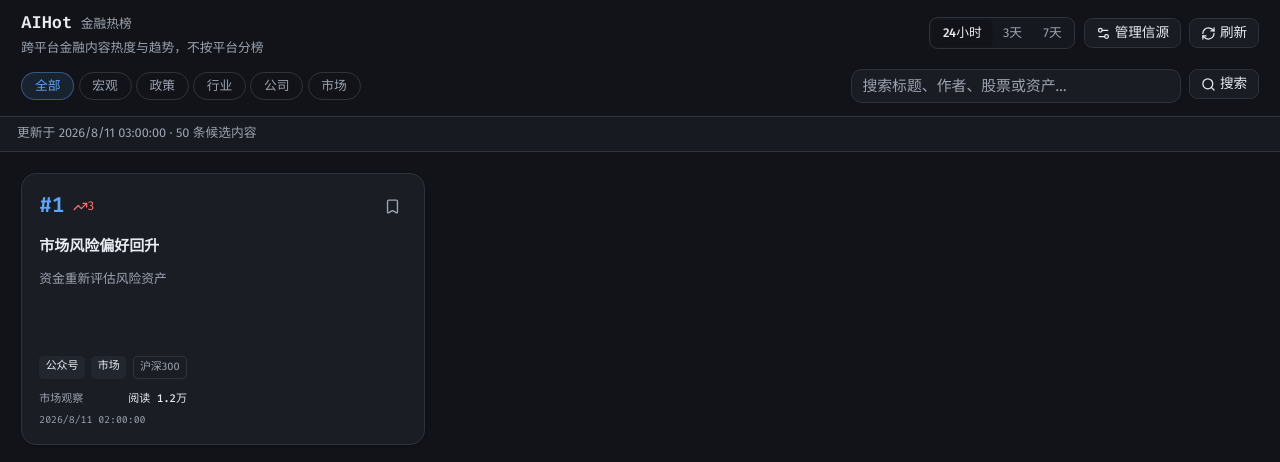
Test: AihotPanel › 异步刷新被受理后明确说明继续展示旧快照
The width and height of the screenshot is (1280, 462).
Click the button "刷新". click: (1224, 33)
box: [1189,18,1259,48]
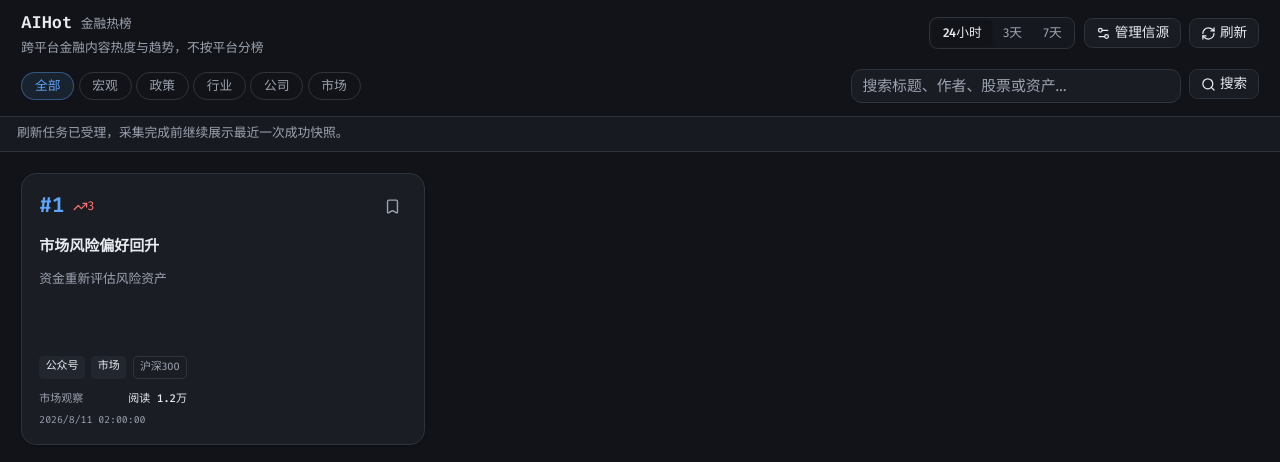
Result: the text "刷新任务已受理，采集完成前继续展示最近一次成功快照。" is shown at [0,117,1279,152]
